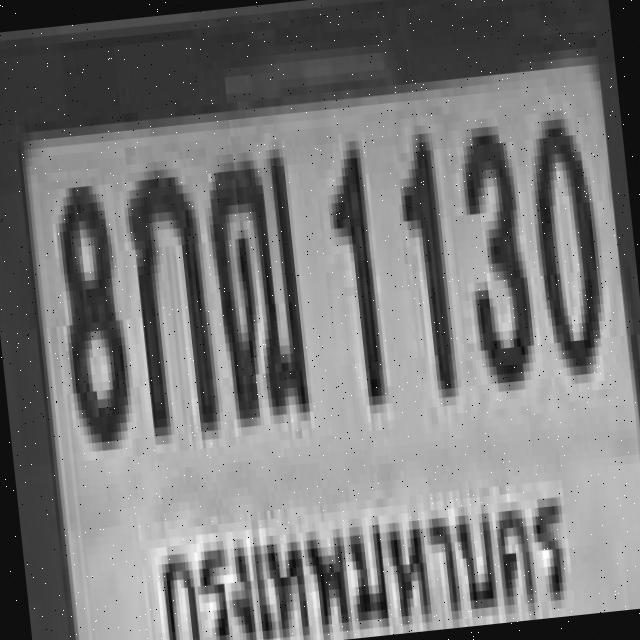0: (523, 108, 606, 369)
1: (390, 125, 454, 392), (321, 132, 382, 399)
10GorGai: (120, 158, 216, 428)
27ThorPhuThao: (202, 140, 310, 420)
3: (453, 116, 534, 385)
8: (47, 176, 131, 444)
Bangkok: (142, 477, 583, 640)
